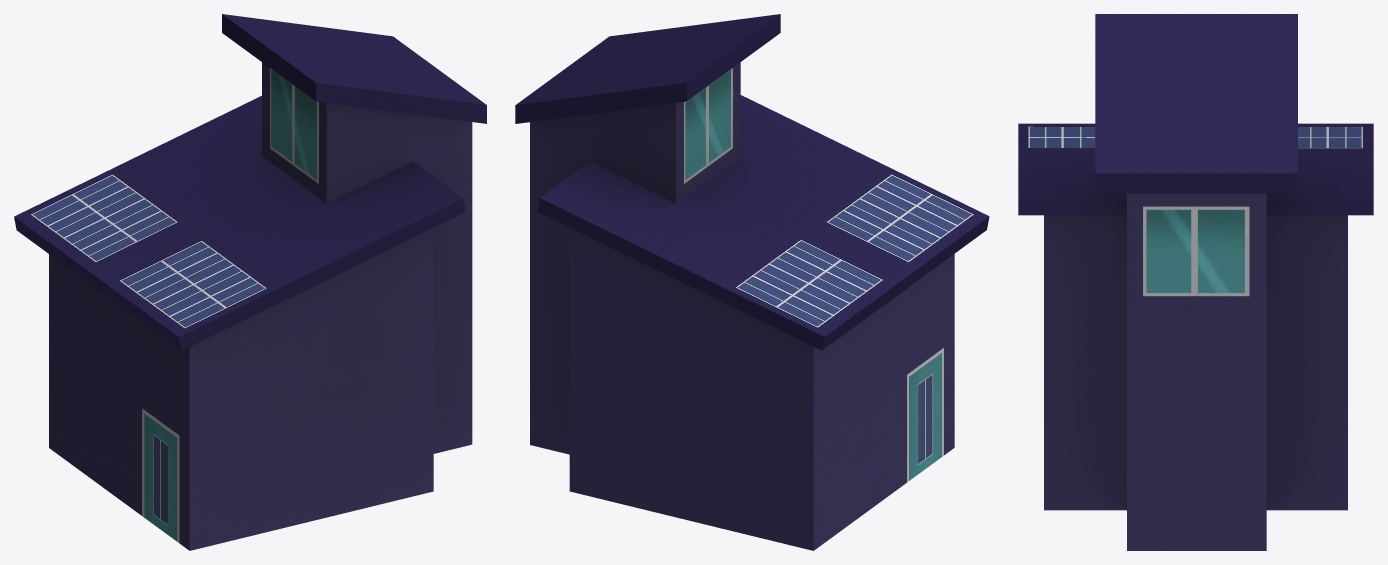
The model's file is Bumpkin_home.fbx.
3 renders of one model, left to right at view 1: azimuth 30°, elevation 25°; view 2: azimuth 150°, elevation 25°; view 3: azimuth 270°, elevation 25°, orthographic. The views are drawn at different scales.
Visible parts, largest first — view 1: Bumpkin_home; view 2: Bumpkin_home; view 3: Bumpkin_home.
Part boxes in pixels (x1,y1,x2,y2): Bumpkin_home: (14, 14, 486, 550); Bumpkin_home: (515, 14, 989, 550); Bumpkin_home: (1018, 14, 1373, 550).
Bounding box in the file's own units: 76.63 × 88.19 × 63.58.
1 material, 1 textured.
